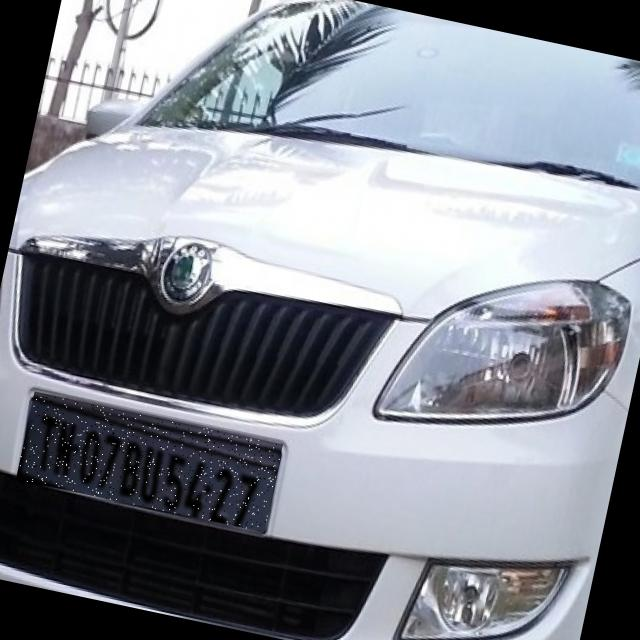Plate: (17, 392, 284, 533)
